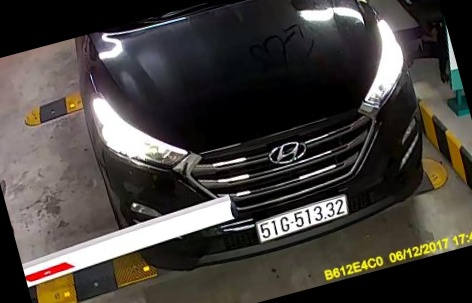plate: (248, 190, 354, 246)
